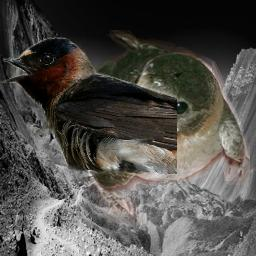Swallow: (28, 30, 250, 229), (1, 37, 177, 176)
